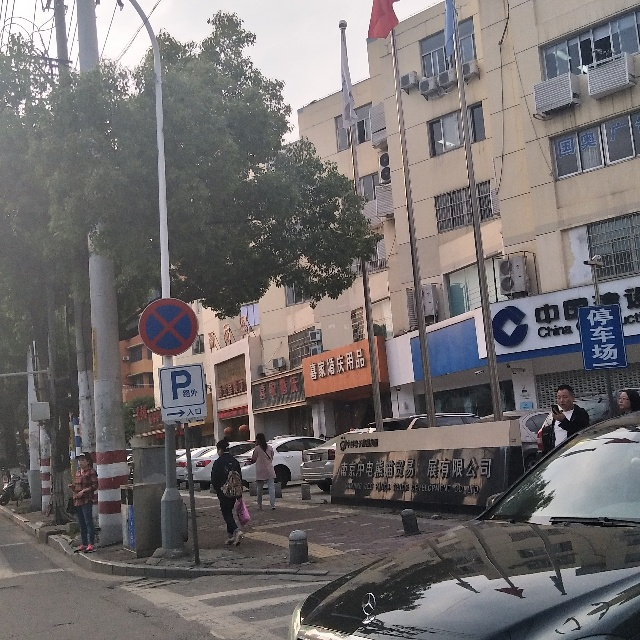stop: (145, 305, 201, 355)
